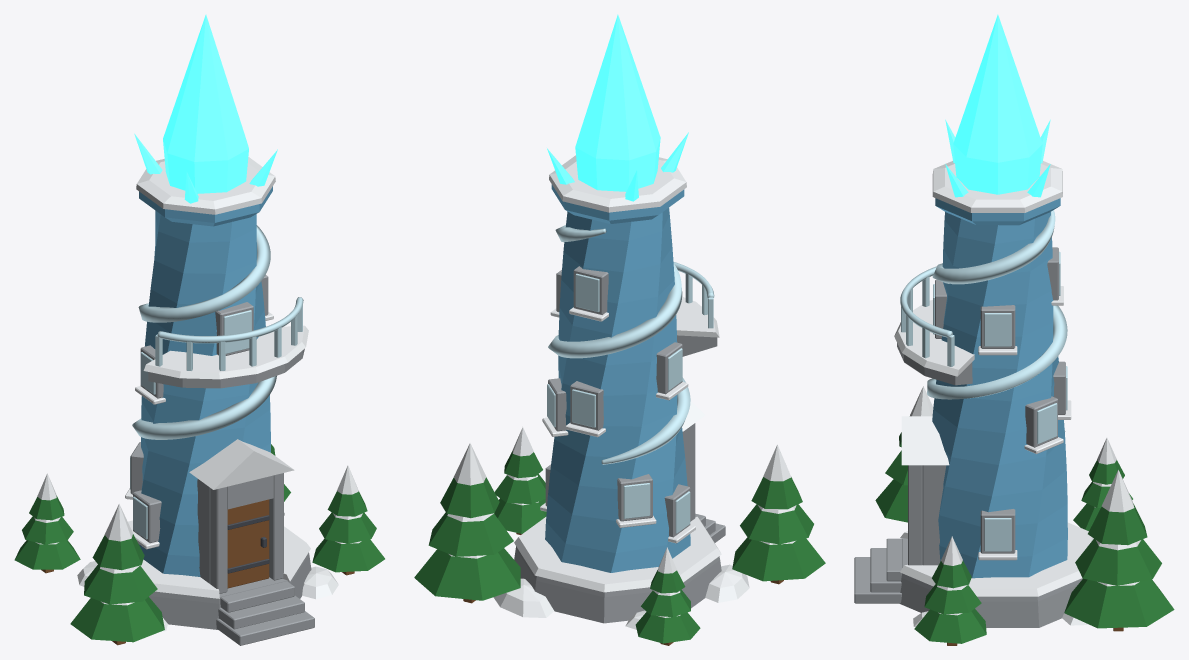
The model's file is frozen-ice-tower.glb.
The picture shows the model from 3 angles, left to right: view 1: azimuth 30°, elevation 25°; view 2: azimuth 150°, elevation 25°; view 3: azimuth 270°, elevation 25°; orthographic projection.
Visible parts, largest first — view 1: Tower_Body, Spire, Spiral_Ridge, Snow_Balcony, Snow_Crown, Pine_A_Tier0, Door_Panel, Plinth, Snow_PortalRoof, Snow_Plinth, Pine_A_Tier1, Portal_Pillar_L (+22 smaller); view 2: Tower_Body, Spire, Snow_Plinth, Spiral_Ridge, Plinth, Pine_C_Tier0, Snow_Crown, Pine_A_Tier0, Pine_C_Tier1, Pine_A_Tier1, Pine_C_Tier2, Pine_D_Tier0 (+22 smaller); view 3: Tower_Body, Spire, Spiral_Ridge, Pine_C_Tier0, Plinth, Snow_Plinth, Snow_Crown, Pine_C_Tier1, Snow_Balcony, Snow_PortalRoof, Portal, Pine_B_Tier0 (+23 smaller).
Part boxes in pixels (x1=…): Tower_Body: x1=139, y1=210, x2=270, y2=576; Spire: x1=163, y1=14, x2=248, y2=193; Spiral_Ridge: x1=132, y1=225, x2=276, y2=439; Snow_Balcony: x1=143, y1=325, x2=308, y2=379; Snow_Crown: x1=136, y1=157, x2=275, y2=214; Pine_A_Tier0: x1=70, y1=597, x2=164, y2=642; Door_Panel: x1=227, y1=499, x2=269, y2=588; Plinth: x1=149, y1=552, x2=311, y2=629; Snow_PortalRoof: x1=189, y1=439, x2=294, y2=489; Snow_Plinth: x1=128, y1=520, x2=310, y2=598; Pine_A_Tier1: x1=84, y1=565, x2=157, y2=604; Portal_Pillar_L: x1=210, y1=486, x2=227, y2=593; Tower_Body: x1=545, y1=208, x2=690, y2=572; Spire: x1=575, y1=14, x2=660, y2=191; Snow_Plinth: x1=514, y1=516, x2=721, y2=592; Spiral_Ridge: x1=548, y1=225, x2=690, y2=464; Plinth: x1=514, y1=546, x2=721, y2=623; Pine_C_Tier0: x1=414, y1=548, x2=520, y2=600; Snow_Crown: x1=549, y1=155, x2=686, y2=212; Pine_A_Tier0: x1=732, y1=537, x2=825, y2=581; Pine_C_Tier1: x1=428, y1=512, x2=513, y2=556; Pine_A_Tier1: x1=740, y1=504, x2=813, y2=544; Pine_C_Tier2: x1=440, y1=477, x2=499, y2=518; Pine_D_Tier0: x1=635, y1=612, x2=700, y2=643; Tower_Body: x1=932, y1=212, x2=1067, y2=578; Spire: x1=953, y1=14, x2=1042, y2=194; Spiral_Ridge: x1=927, y1=210, x2=1067, y2=431; Pine_C_Tier0: x1=1064, y1=578, x2=1174, y2=628; Plinth: x1=900, y1=538, x2=1082, y2=627; Snow_Plinth: x1=900, y1=522, x2=1093, y2=596; Snow_Crown: x1=932, y1=161, x2=1062, y2=212; Pine_C_Tier1: x1=1075, y1=539, x2=1161, y2=585; Snow_Balcony: x1=894, y1=300, x2=974, y2=376; Snow_PortalRoof: x1=901, y1=416, x2=949, y2=465; Portal: x1=922, y1=465, x2=946, y2=565; Pine_B_Tier0: x1=914, y1=608, x2=986, y2=643.
Bounding box in the file's own units: 31.55 × 55 × 27.91.
